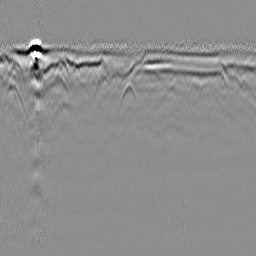cavity: (115, 80, 140, 120)
